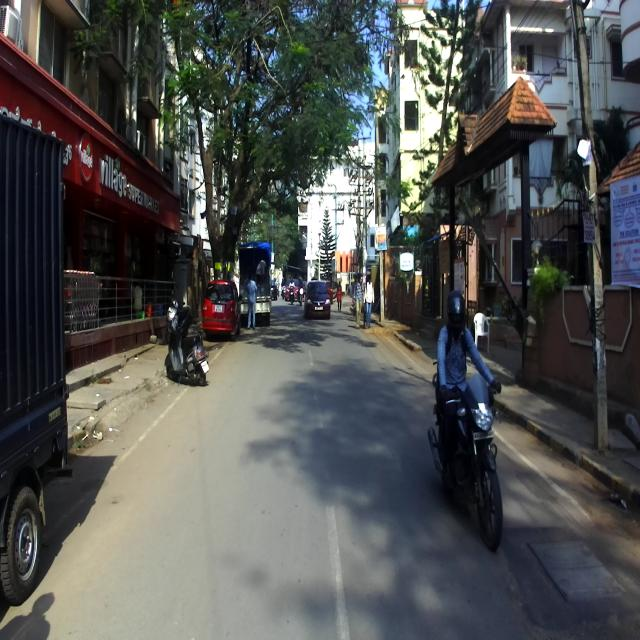electric pole ahead at: (567, 0, 620, 451)
motorcycle ahead at: (425, 377, 506, 548), (162, 301, 210, 393)
